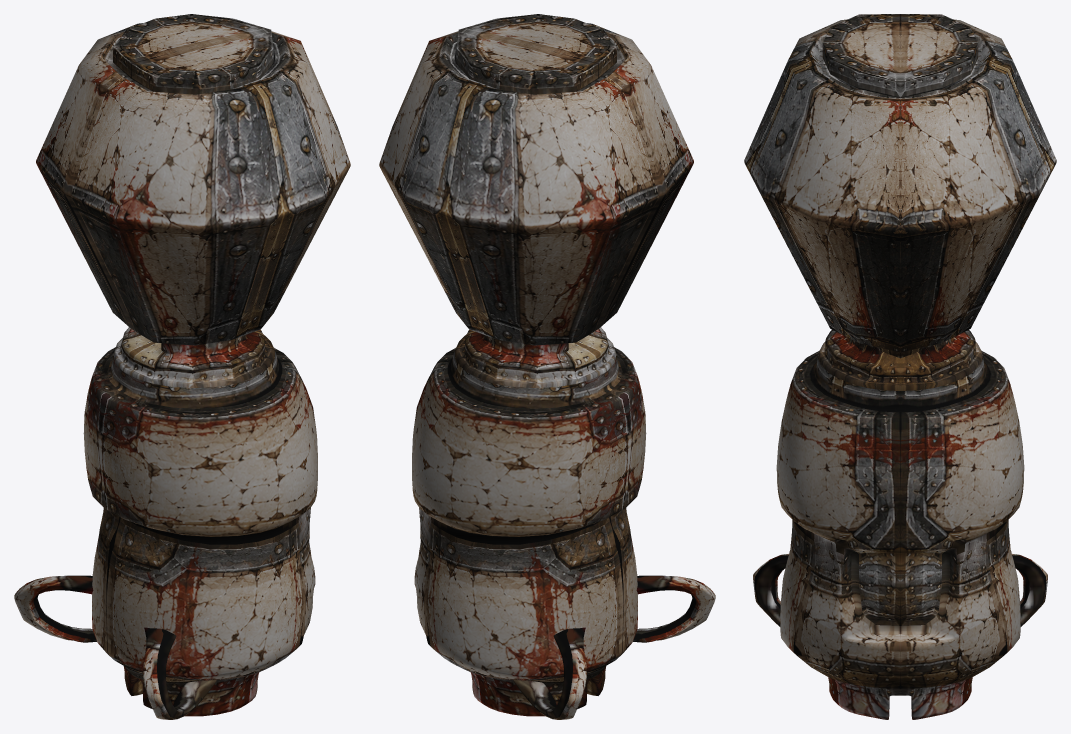
The model's file is HAMMER2.glb.
The picture shows the model from 3 angles, left to right: view 1: azimuth 30°, elevation 25°; view 2: azimuth 150°, elevation 25°; view 3: azimuth 270°, elevation 25°; orthographic projection.
Parts seen in each view (by area): view 1: 0.008, 1.008; view 2: 0.008, 1.008; view 3: 0.008, 1.008.
Boxes of the visible parts, left/top/right/bottom form: 0.008: left=14, top=327, right=317, bottom=719; 1.008: left=36, top=14, right=350, bottom=345; 0.008: left=412, top=327, right=715, bottom=719; 1.008: left=379, top=14, right=693, bottom=345; 0.008: left=753, top=330, right=1047, bottom=719; 1.008: left=744, top=14, right=1056, bottom=358.
Size of the model in its own units: 0.8551 by 1.92 by 0.8342.
1 material, 1 textured.
